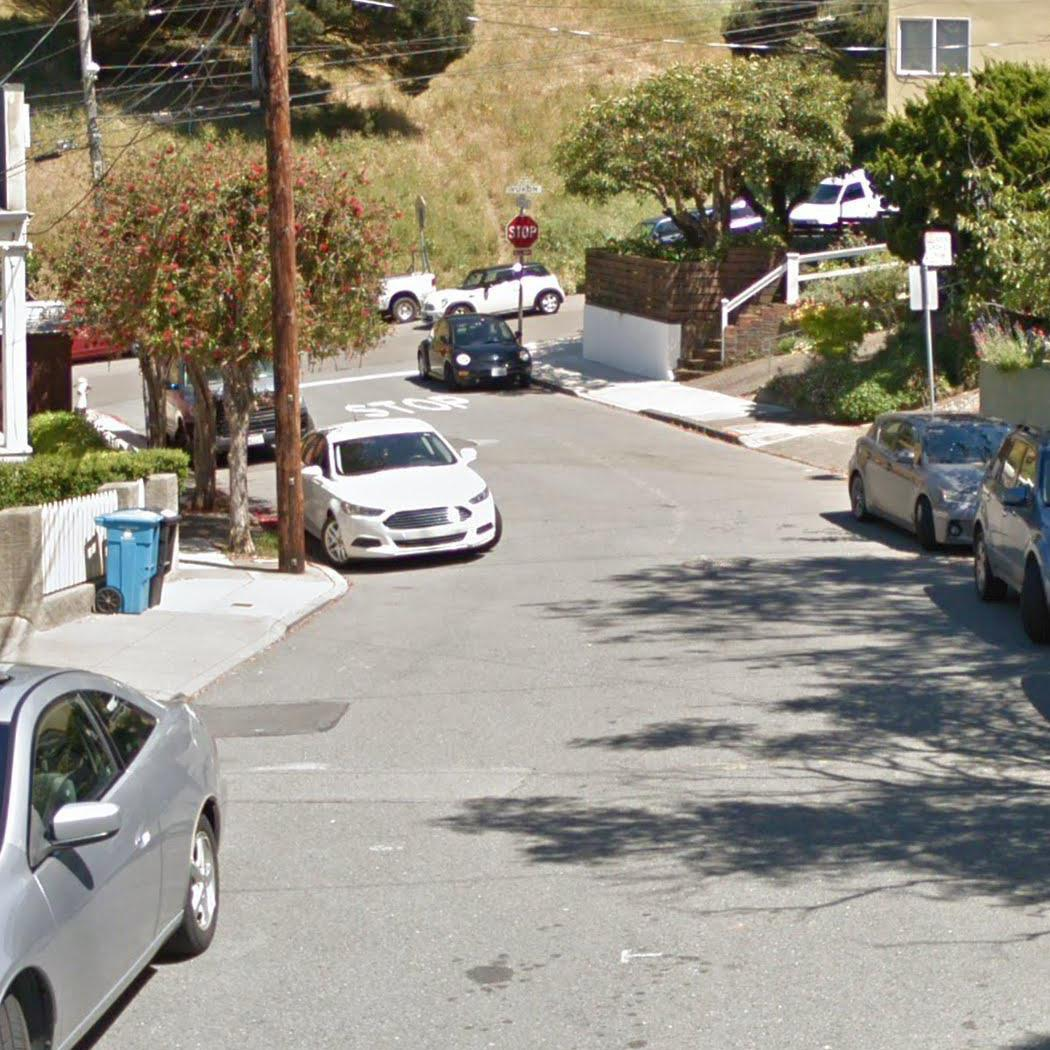No Parking: (923, 230, 955, 268)
